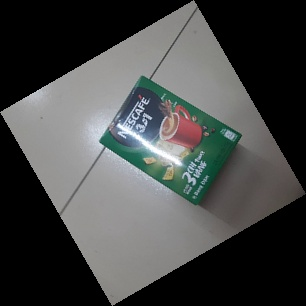Nes Rang: (97, 74, 242, 206)
